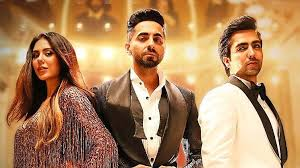Bad: (7, 8, 201, 168), (111, 9, 289, 168)
